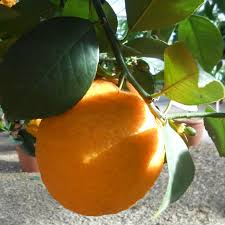orange: (36, 74, 168, 214)
